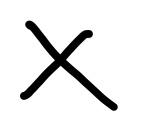mult: (21, 20, 117, 112)
